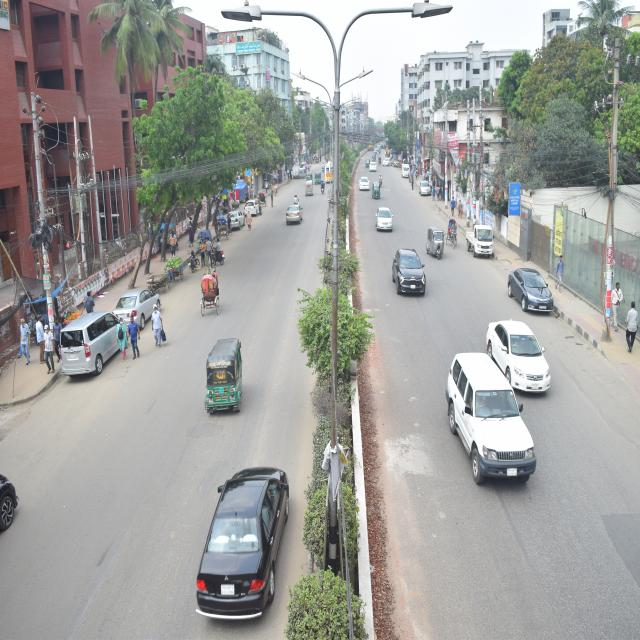car: (190, 429, 297, 640), (488, 306, 551, 396), (113, 273, 165, 337), (504, 263, 557, 324), (386, 244, 435, 306), (218, 201, 250, 234), (370, 206, 398, 236), (244, 192, 269, 223), (284, 199, 305, 233), (418, 173, 434, 199), (354, 171, 372, 192), (365, 158, 382, 173)
microbus: (434, 352, 534, 490), (51, 313, 127, 382)
motorbike: (207, 244, 230, 272)
pickup-van: (460, 217, 502, 265)
